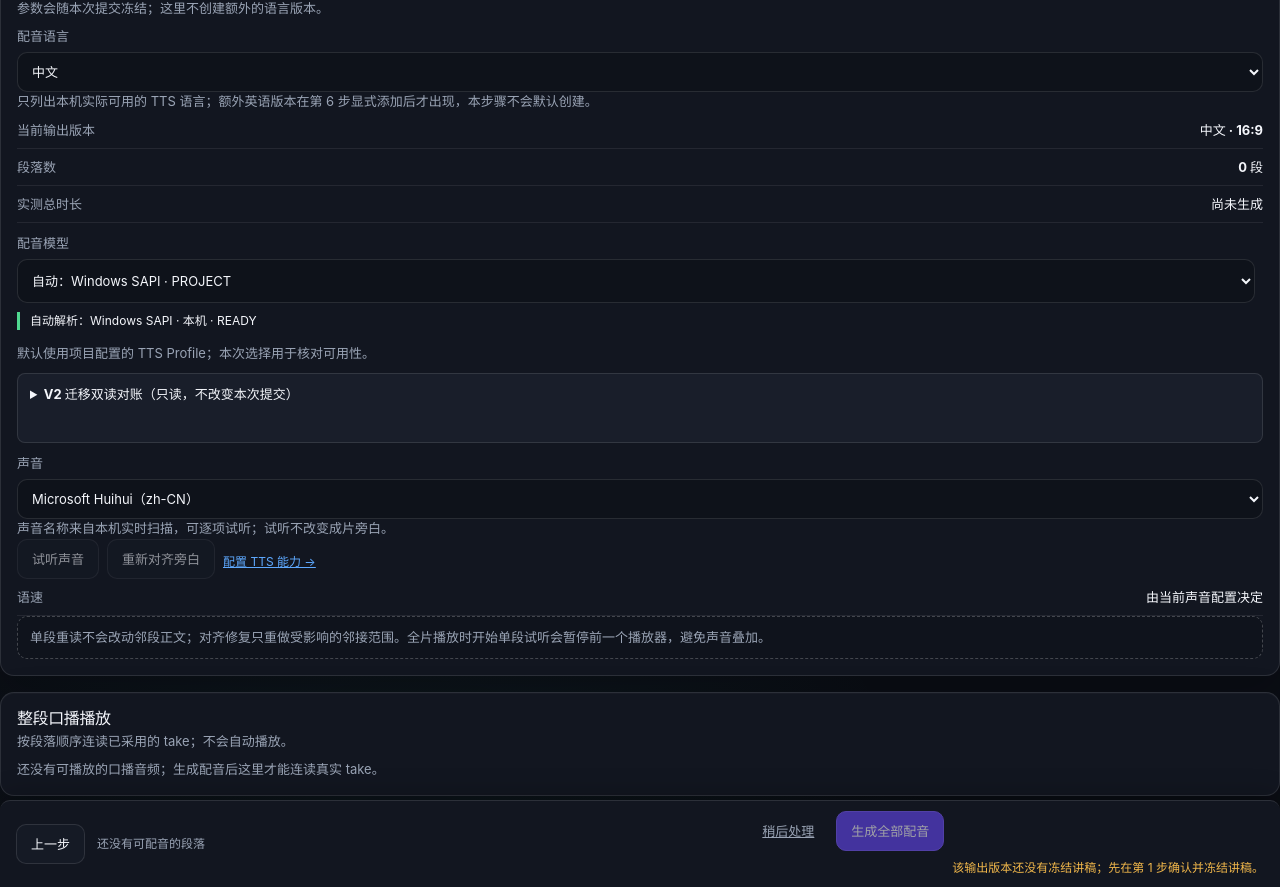
Scenario: audio page — narration reading and audition › auditions a real voice through the local smoke synthesis
(page scrolled)
Select "Microsoft Huihui（zh-CN）" in the dropdown labelled "声音" at (640, 499), box [17,479,1263,519]
(page scrolled)
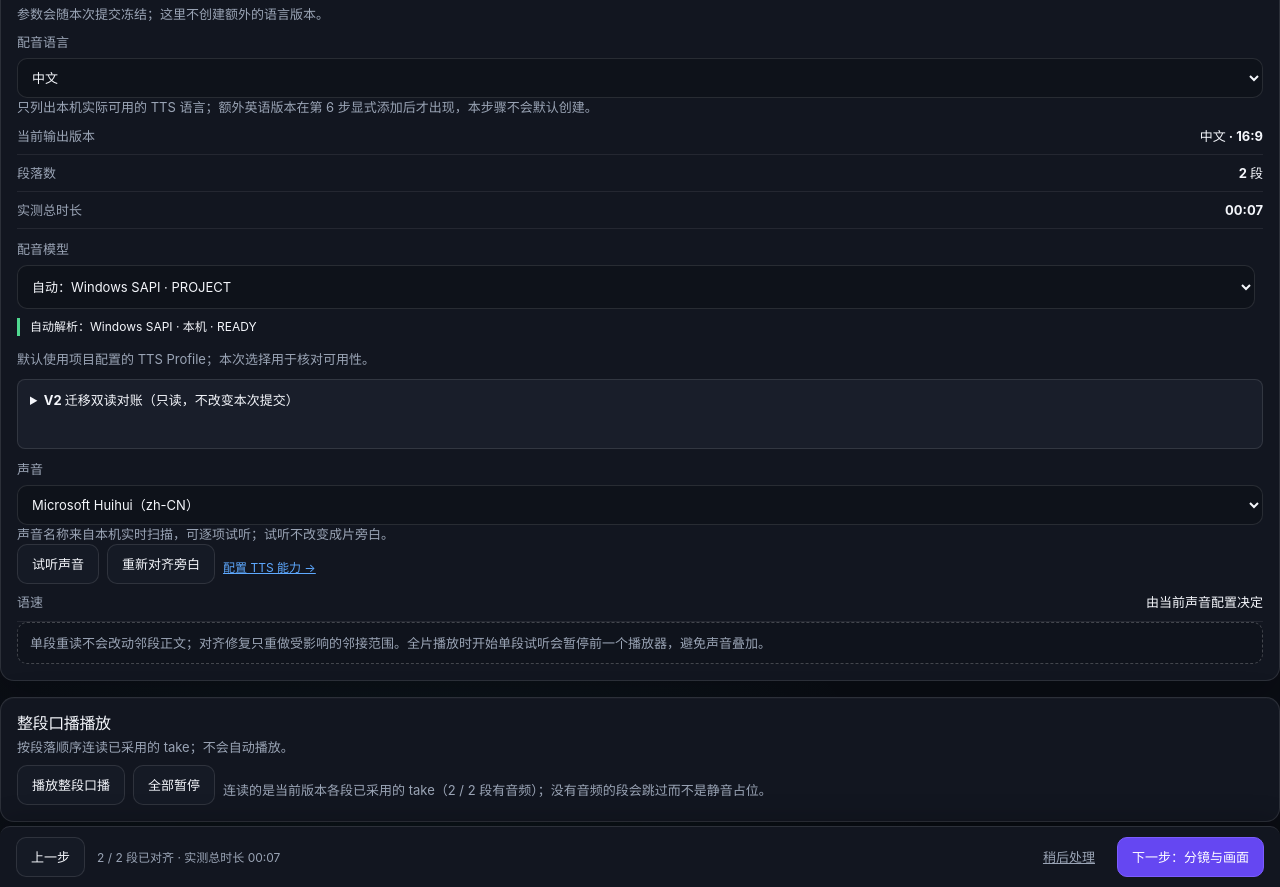
Check: the button "试听声音" is enabled
Click the button "试听声音" at (58, 564), box [17,544,99,584]
(page scrolled)
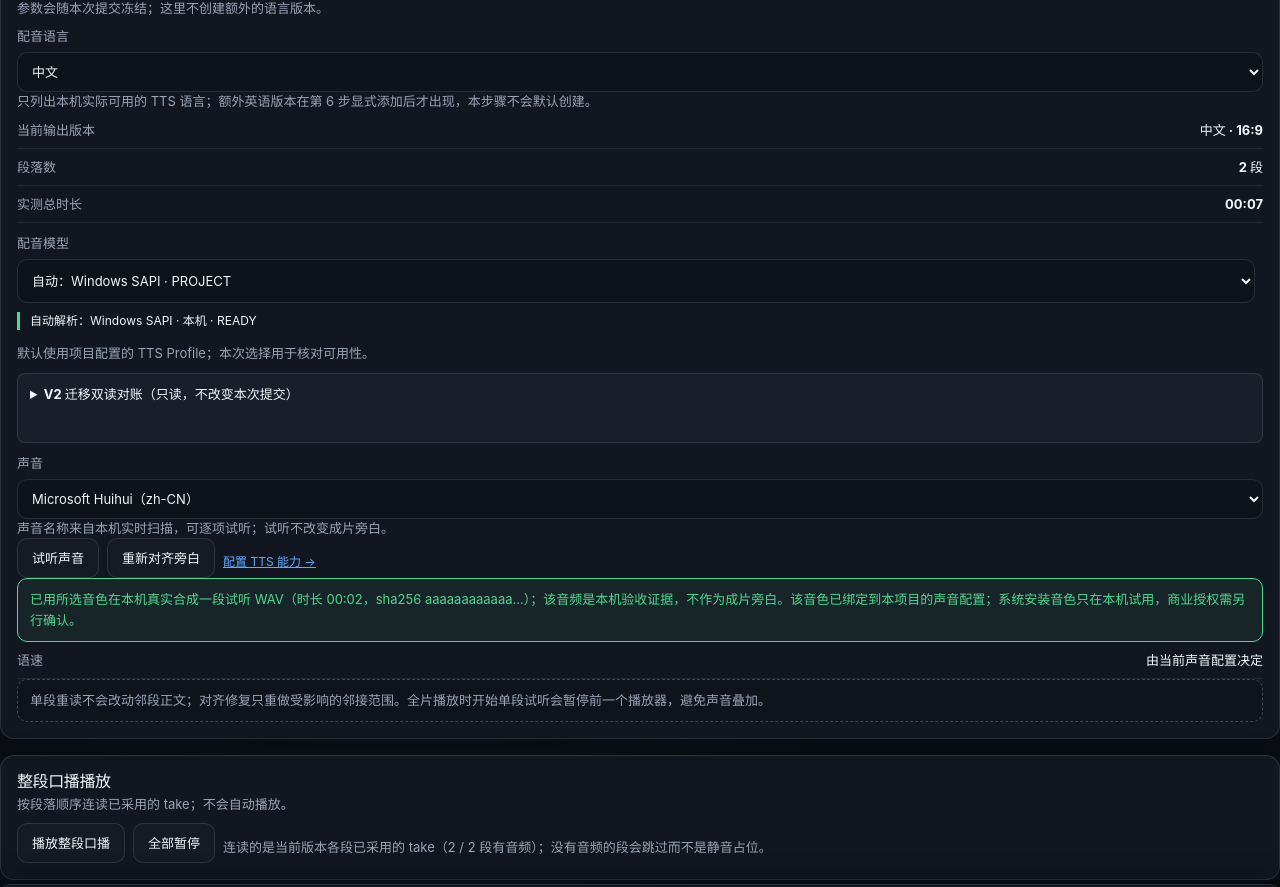
Check: the text "本机真实合成一段试听 WAV" is shown, box [30,591,1245,628]
